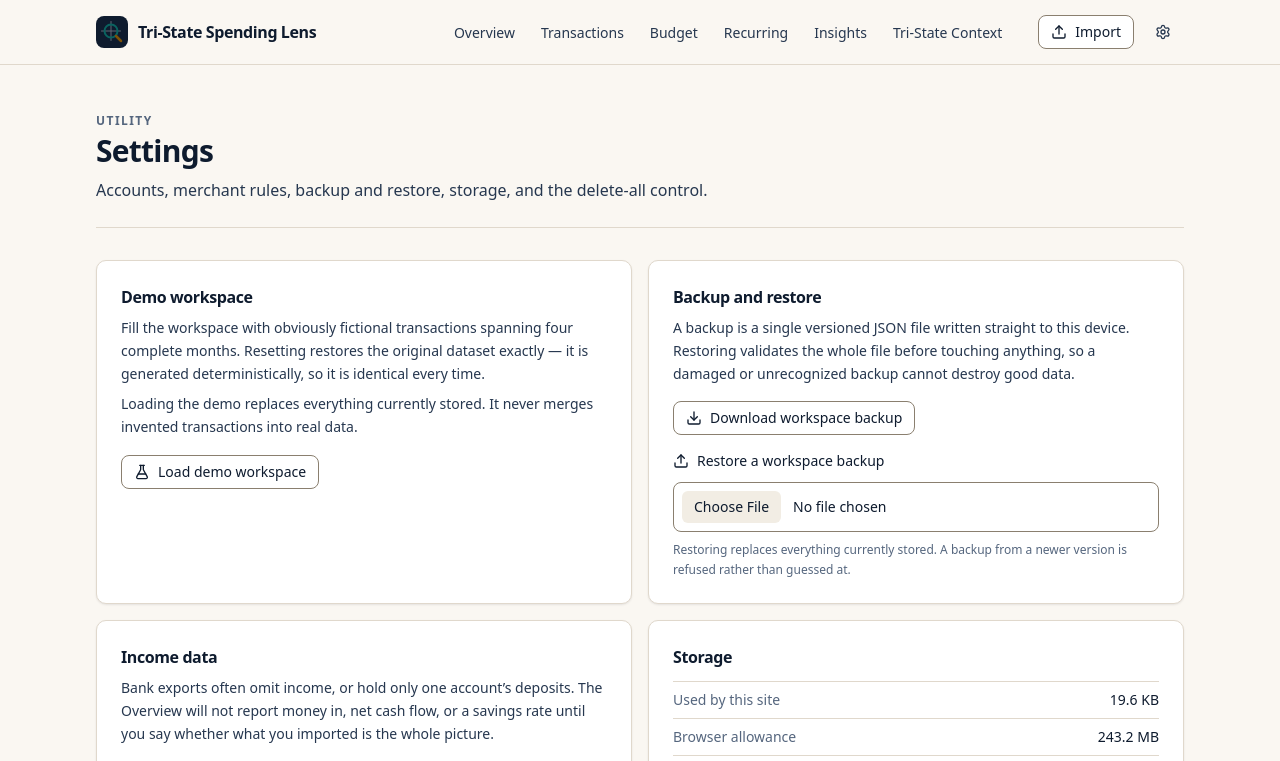
Settings, wired to a real local workspace › loads the fictional demo workspace and reports what it wrote
Expected: the heading "Settings" is shown, [96, 130, 213, 171]
Click the button "Load demo workspace": (220, 472) [121, 455, 319, 489]
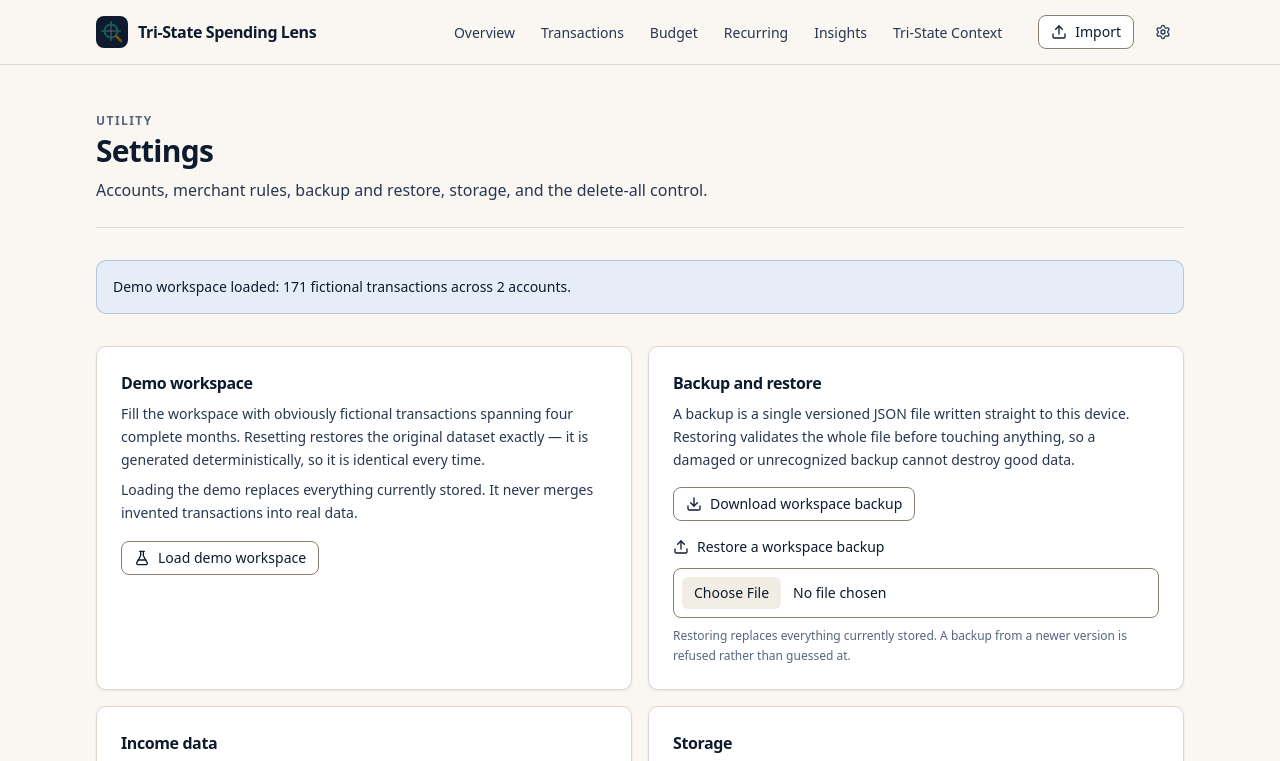
Now the message shows "Demo workspace loaded", box [113, 277, 571, 296]
Now the message shows "fictional transactions", box [113, 277, 571, 296]
